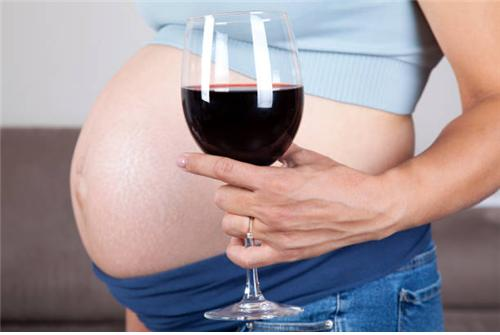alcohol: (180, 10, 304, 323)
